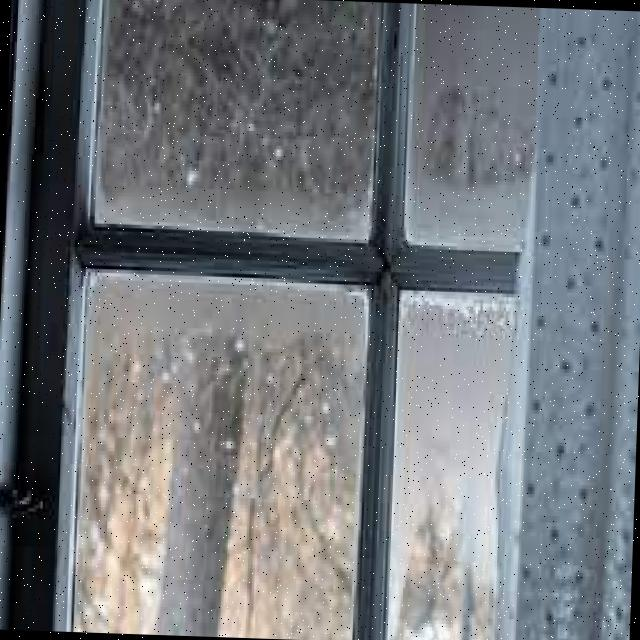Window: (41, 0, 553, 640)
